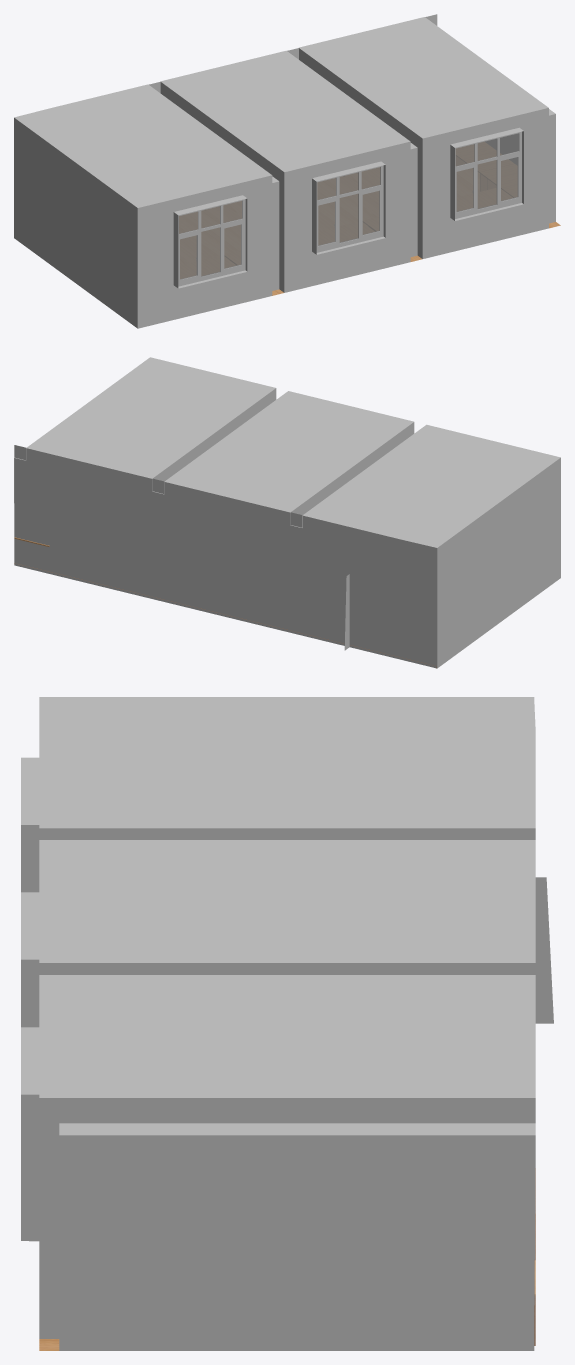
File: ShowRoom01.FBX
The picture shows the model from 3 angles, top to bottom: view 1: azimuth 30°, elevation 25°; view 2: azimuth 150°, elevation 25°; view 3: azimuth 270°, elevation 25°; orthographic projection. The views are drawn at different scales.
Visible parts, largest first — view 1: Room, Glass, Windows, Tables1, Tables2; view 2: Room; view 3: Room.
Boxes of the visible parts, box(x1,y1,x2,y2) form: Room: box(14, 14, 560, 328); Glass: box(179, 133, 518, 279); Windows: box(173, 131, 521, 286); Tables1: box(180, 188, 511, 278); Tables2: box(456, 142, 516, 196); Room: box(14, 357, 560, 668); Room: box(21, 697, 553, 1350).
Size of the model in its own units: 482 by 131 by 263.
